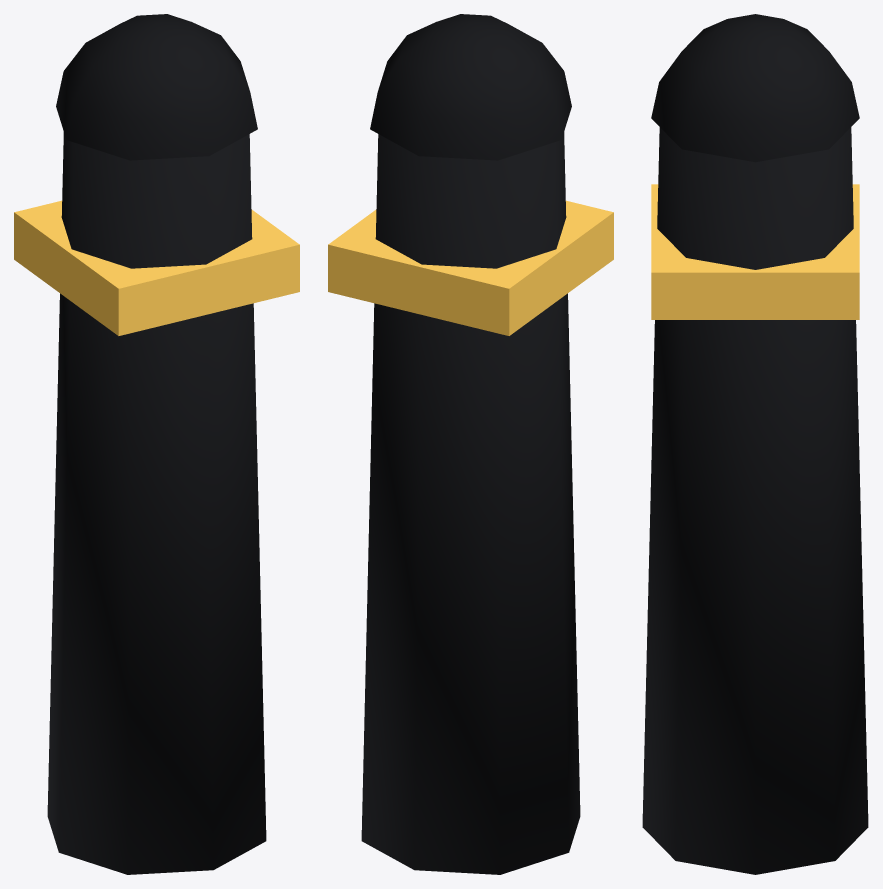
Rendered from cp_bollard.glb.
3 renders of one model, left to right at view 1: azimuth 30°, elevation 25°; view 2: azimuth 150°, elevation 25°; view 3: azimuth 270°, elevation 25°, orthographic.
Visible parts, largest first — view 1: city_cp_bollard; view 2: city_cp_bollard; view 3: city_cp_bollard.
Part boxes in pixels (x1,y1,x2,y2): city_cp_bollard: (14, 14, 299, 874); city_cp_bollard: (328, 14, 613, 874); city_cp_bollard: (642, 14, 868, 874).
Bounding box in the file's own units: 0.26 × 1.02 × 0.26.
1 material, 1 textured.
